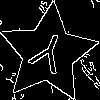Y: (23, 28, 71, 84)
